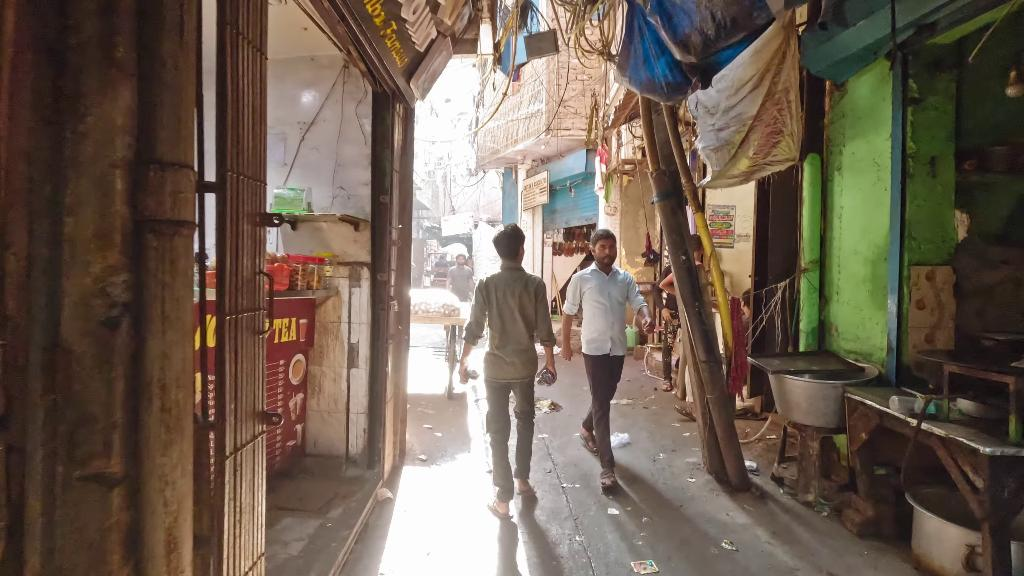garbage: (631, 553, 659, 576), (611, 428, 634, 448), (741, 456, 761, 475), (379, 484, 395, 505)
